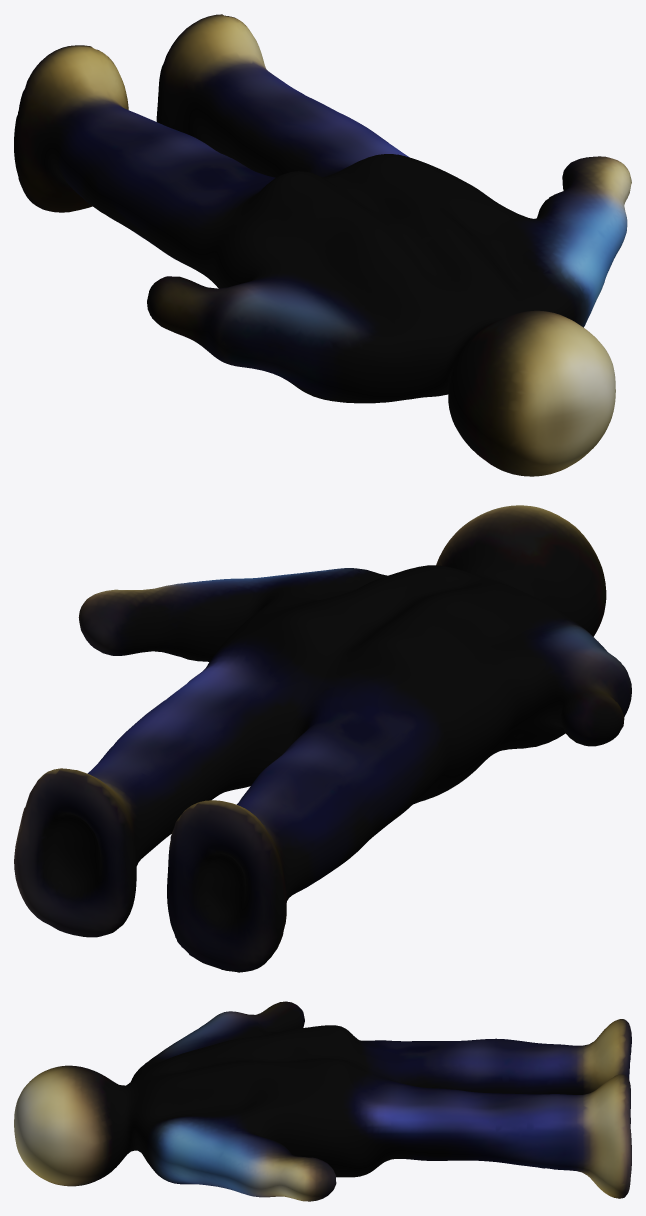
The model's file is grandfather.glb.
3 renders of one model, top to bottom at view 1: azimuth 30°, elevation 25°; view 2: azimuth 150°, elevation 25°; view 3: azimuth 270°, elevation 25°, orthographic. The views are drawn at different scales.
Bounding box in the file's own units: 0.6814 × 0.2343 × 0.9996.
